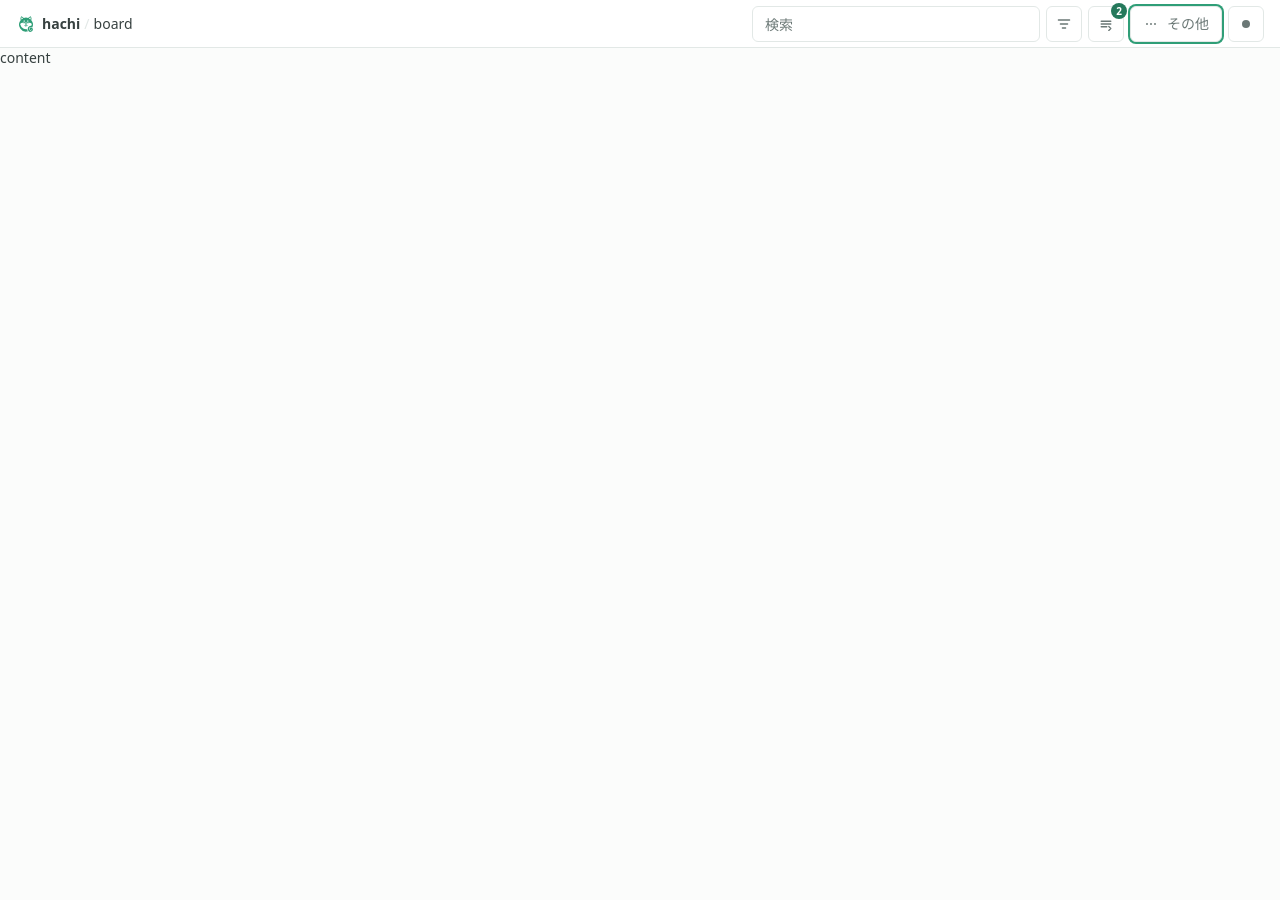
AppShell › md以上も低優先5導線とテーマを一つのその他へ集約する
Expected: the button named "sessions" is shown, [1088,6,1124,42]
Click the button with test id "appshell-more-nav-trigger" at point(1176, 24), box [1130,6,1222,42]
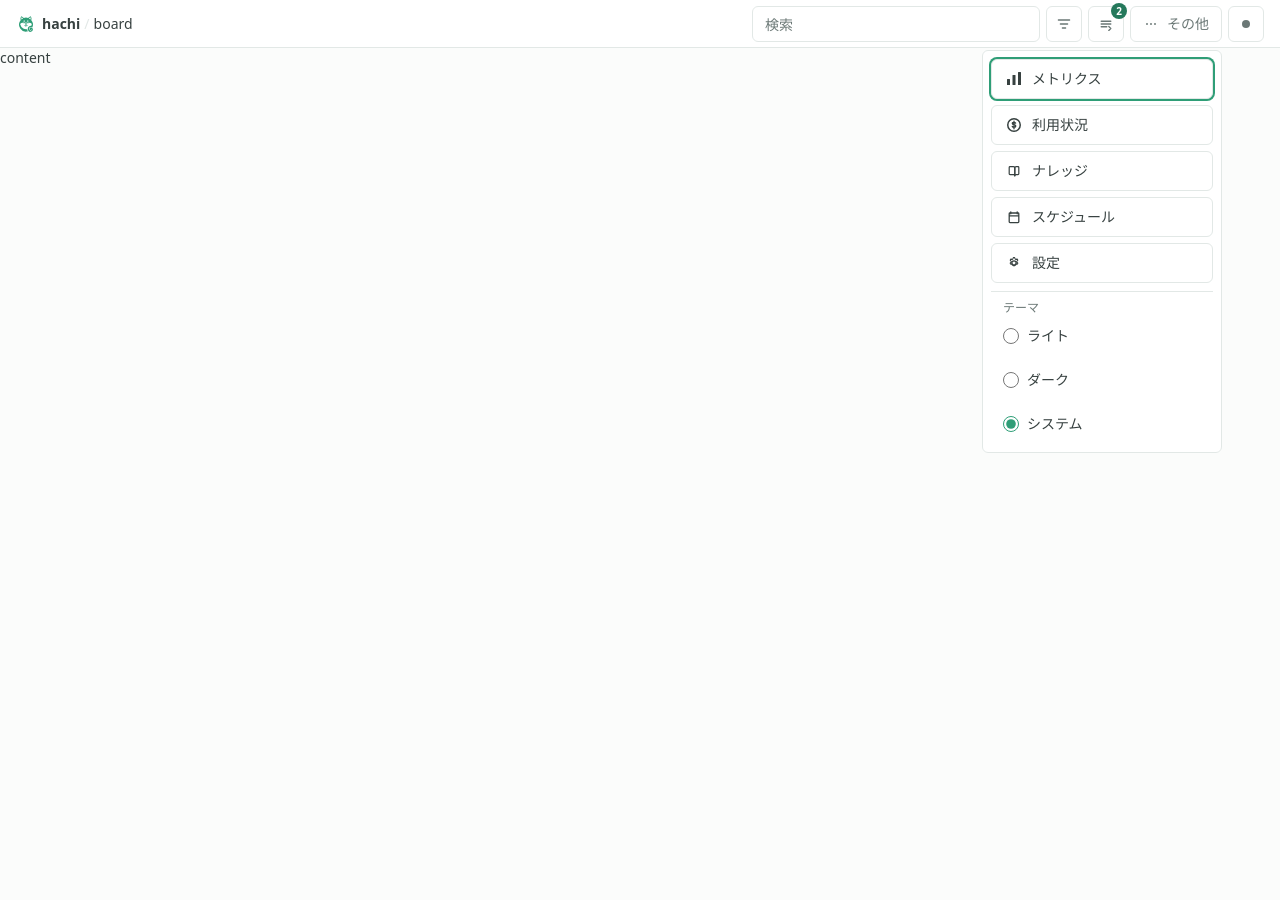
Now the number of radio buttons is 3, box [1003,328,1019,344]; [1003,372,1019,388]; [1003,416,1019,432]
